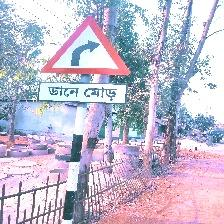Right-turn: (38, 16, 132, 104)
